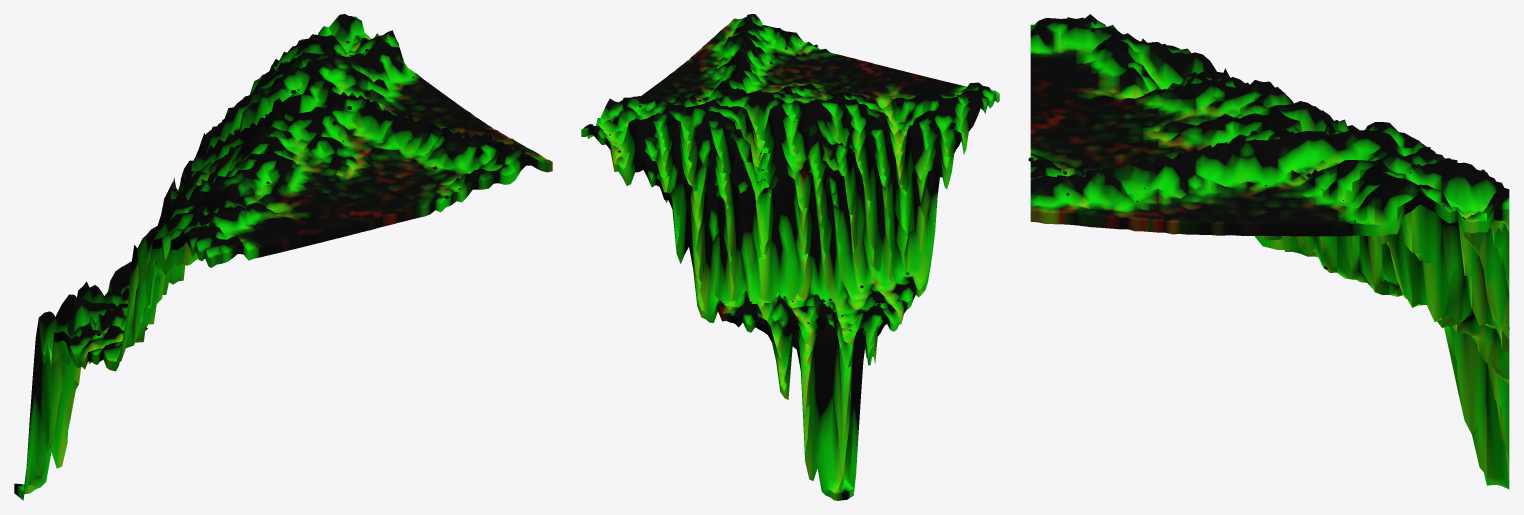
The model's file is Terrain_06_01.fbx.
The picture shows the model from 3 angles, left to right: view 1: azimuth 30°, elevation 25°; view 2: azimuth 150°, elevation 25°; view 3: azimuth 270°, elevation 25°; orthographic projection. The views are drawn at different scales.
Visible parts, largest first — view 1: Terrain_06_01_LOD0; view 2: Terrain_06_01_LOD0; view 3: Terrain_06_01_LOD0.
Boxes of the visible parts, x1=… form: Terrain_06_01_LOD0: x1=14, y1=14, x2=552, y2=500; Terrain_06_01_LOD0: x1=581, y1=14, x2=999, y2=500; Terrain_06_01_LOD0: x1=1028, y1=14, x2=1509, y2=489.
Size of what is drawn, in the model's own units: 384 by 444 by 386.
